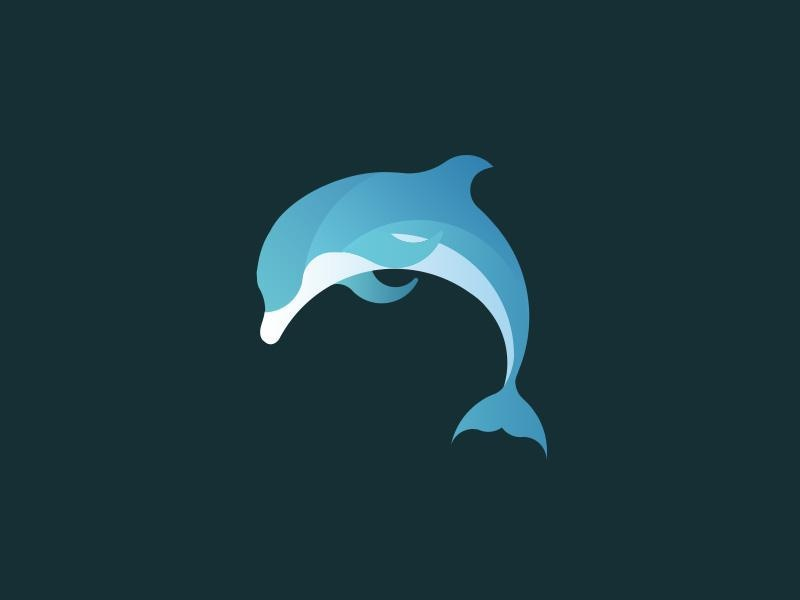fish: (252, 154, 559, 459)
